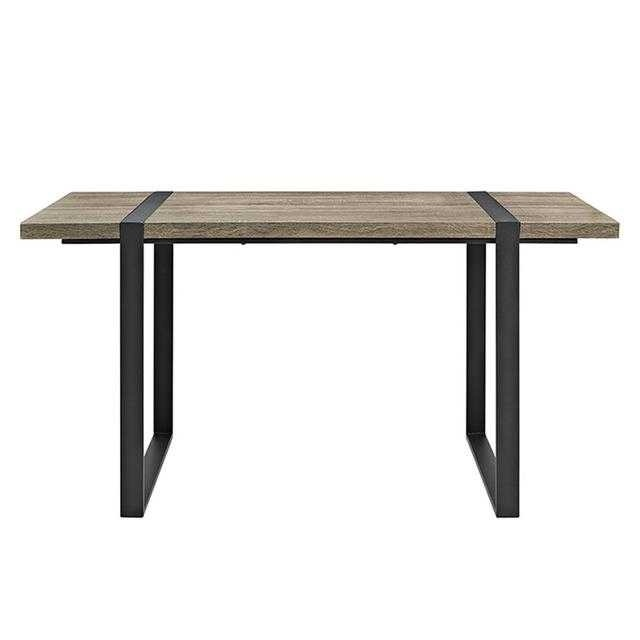obstacle: (21, 191, 618, 516)
